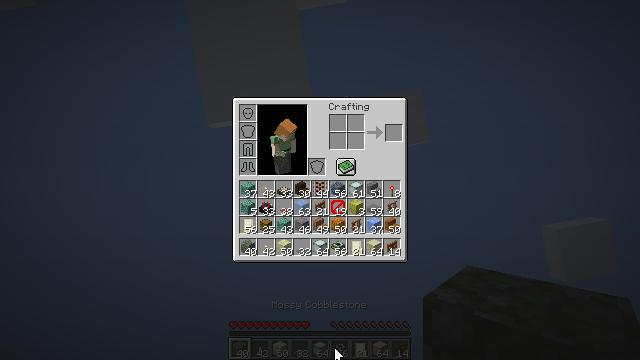cursor: (334, 347, 344, 360)
